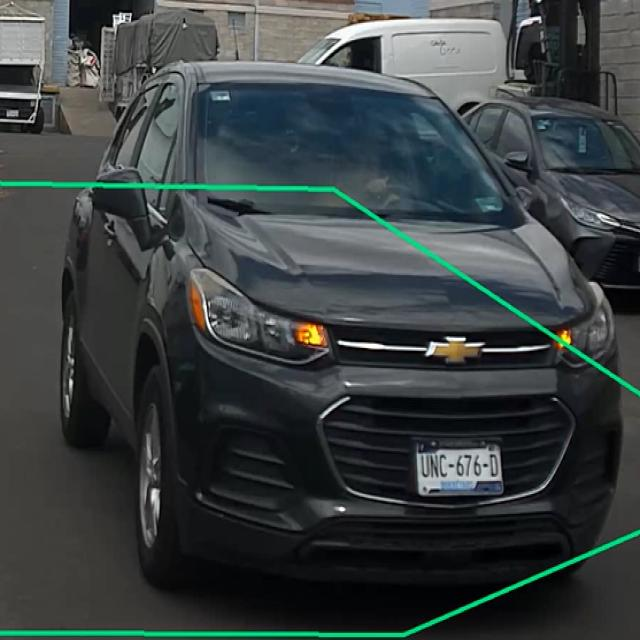placa: (416, 451, 502, 480)
